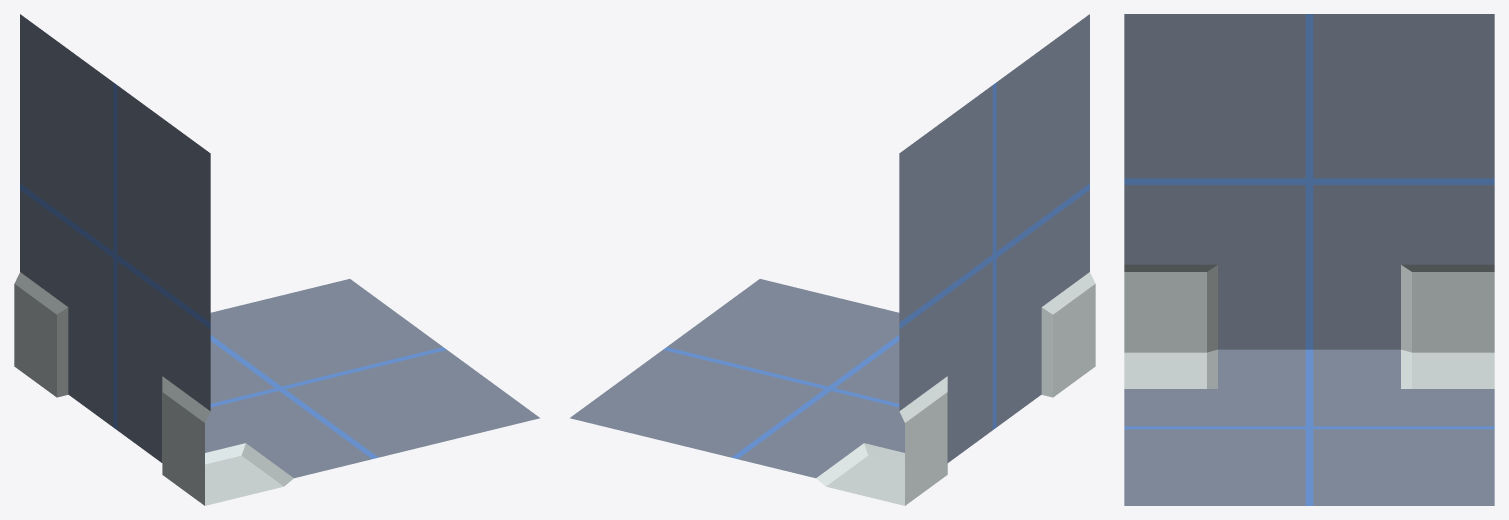
File: WallEdge.fbx
3 renders of one model, left to right at view 1: azimuth 30°, elevation 25°; view 2: azimuth 150°, elevation 25°; view 3: azimuth 270°, elevation 25°, orthographic. The views are drawn at different scales.
Visible parts, largest first — view 1: WallEdge; view 2: WallEdge; view 3: WallEdge.
Part boxes in pixels (left/top/right/bottom): WallEdge: left=14, top=14, right=539, bottom=505; WallEdge: left=570, top=14, right=1095, bottom=505; WallEdge: left=1124, top=14, right=1494, bottom=505.
Size of the model in its own units: 102 by 102 by 100.
1 material, 1 textured.
